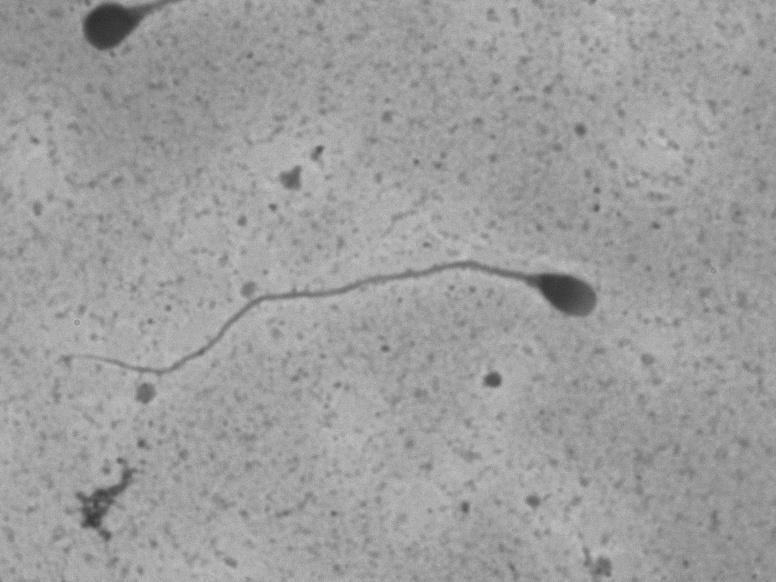Normal: (47, 233, 628, 406)
